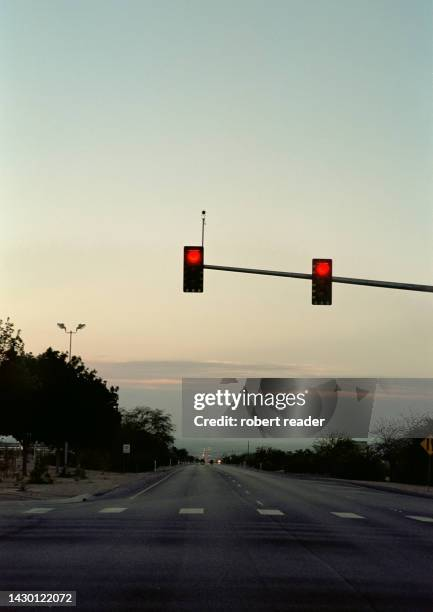redlight: (308, 255, 338, 283), (176, 243, 207, 266)
